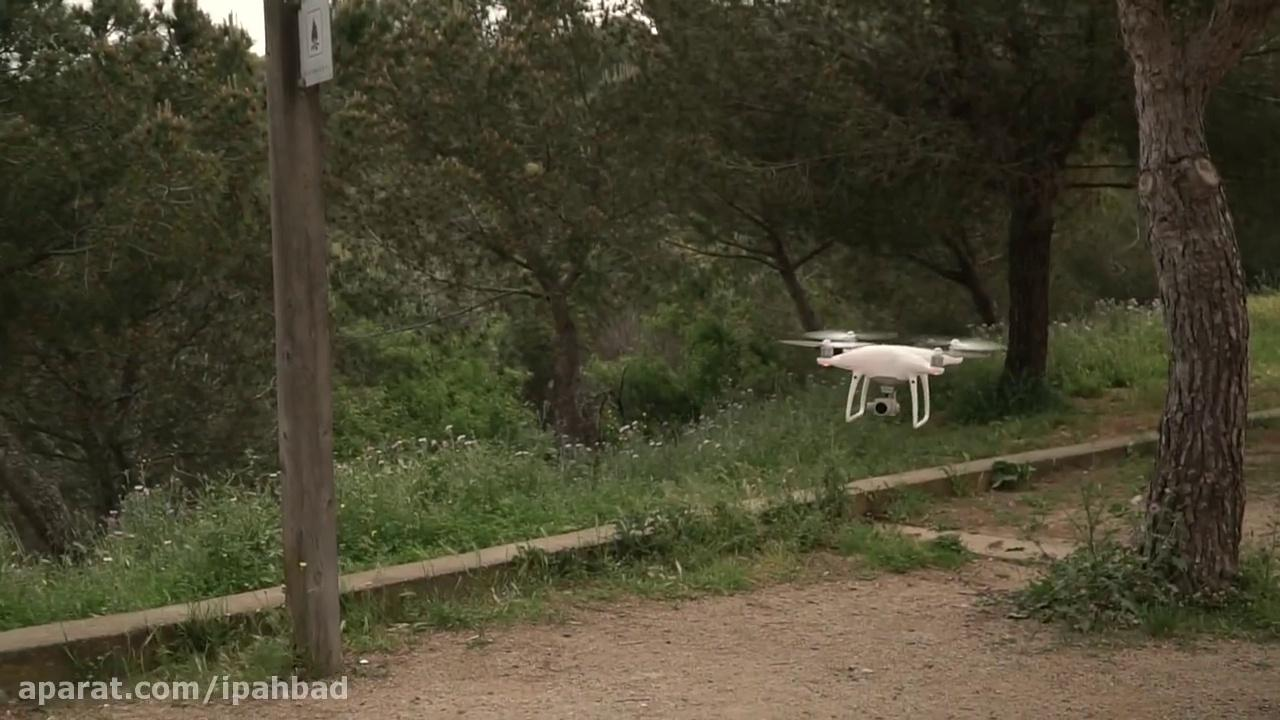drone: (775, 325, 1005, 427)
